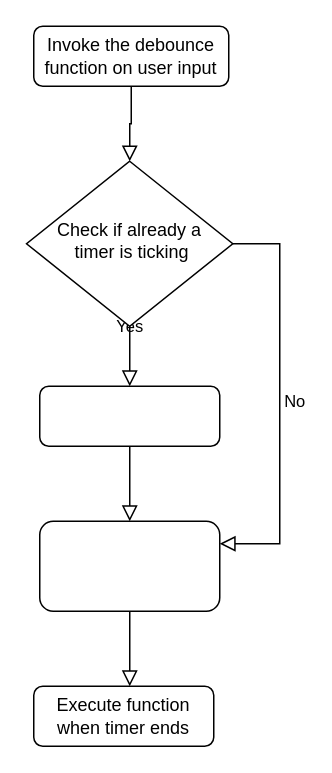
The diagram is 332 pixels wide and 773 high, and some of its shapes have lost their labels. The centre of each missing label's shape, as x and y in pixels:
"Clear timer to reset the delay" goes at point 129,415.
"Create a new timer with the specified delay" goes at point 129,565.
